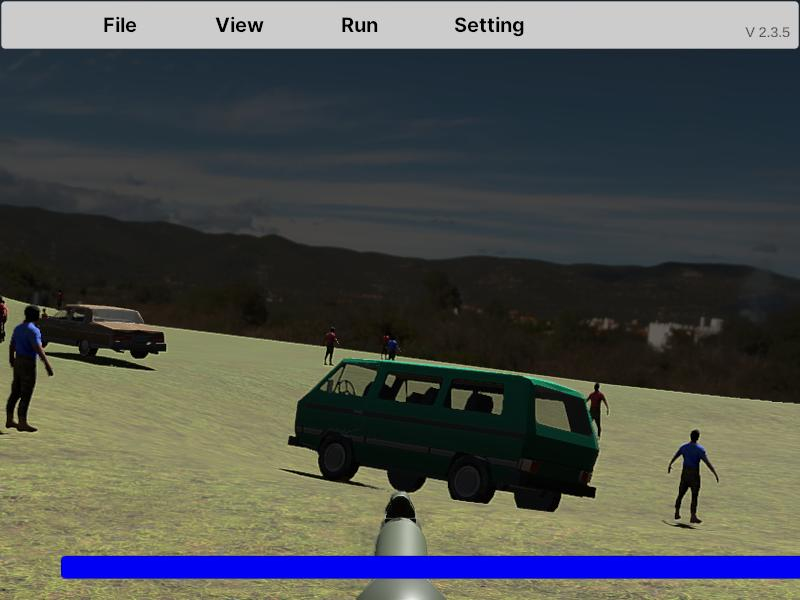Human: (7, 305, 54, 433), (668, 428, 719, 524)
car: (287, 359, 600, 511), (28, 304, 167, 360)
